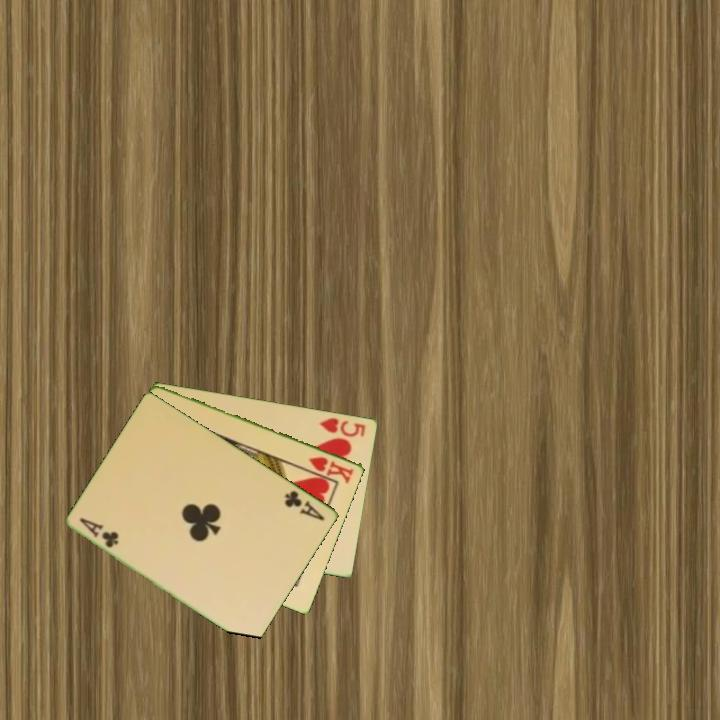5h: (316, 414, 368, 440)
Ac: (281, 487, 328, 524), (77, 514, 122, 551)
Kh: (305, 453, 357, 486)
